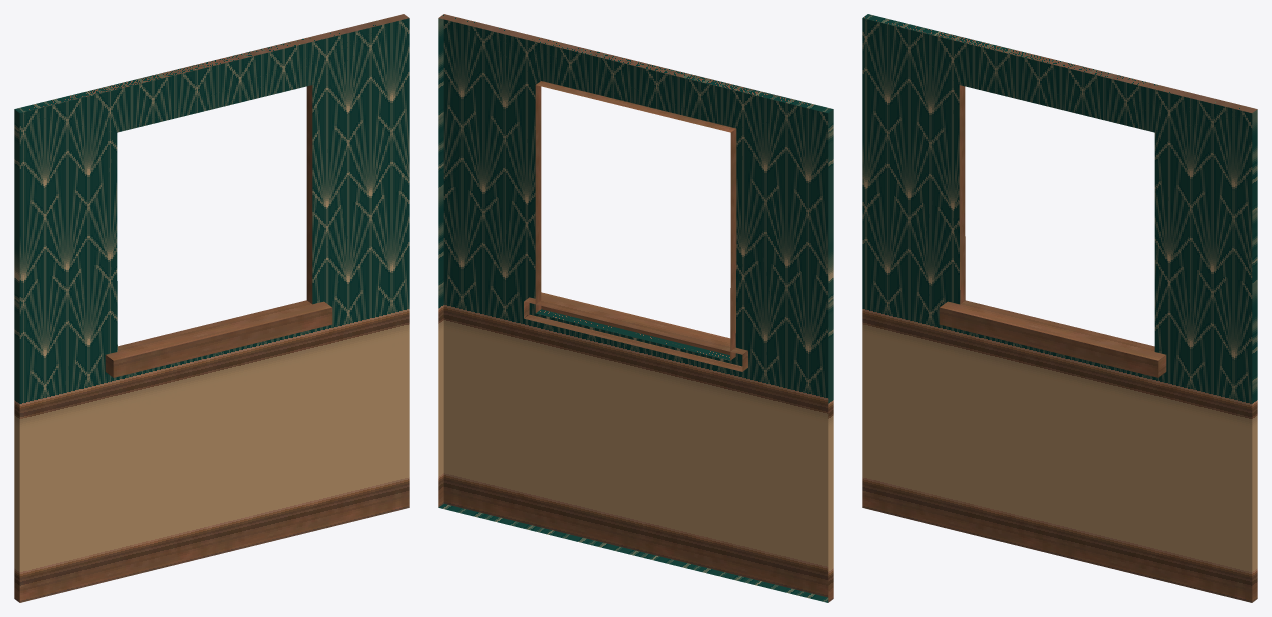
File: window_wall2.glb
3 views of the same model, side by side, from view 1: azimuth 30°, elevation 25°; view 2: azimuth 150°, elevation 25°; view 3: azimuth 330°, elevation 25° (orthographic).
Visible parts, largest first — view 1: window_wall2; view 2: window_wall2; view 3: window_wall2.
Part boxes in pixels (x1,y1,x2,y2): window_wall2: (14,14,409,602); window_wall2: (438,14,833,602); window_wall2: (862,14,1257,602).
Size of the model in its own units: 2 by 2.4 by 0.1226.
Materials: 1 (1 with a texture image).
